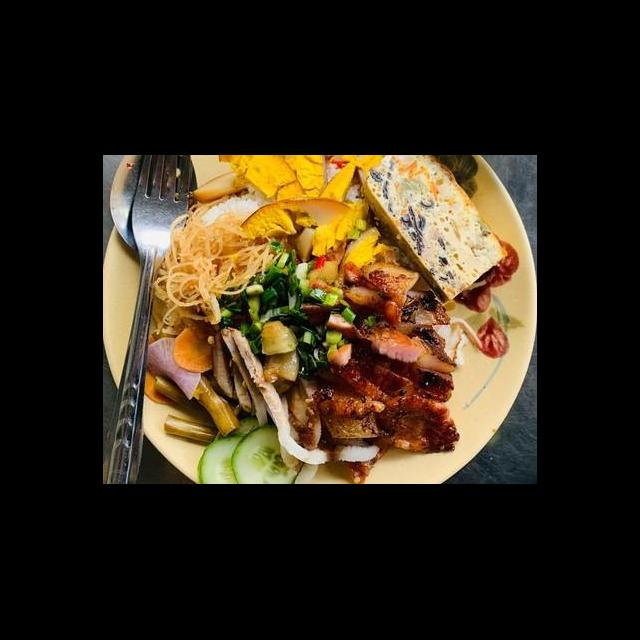bi: (146, 212, 285, 338)
cha: (355, 156, 510, 308)
com: (199, 182, 276, 230)
com suon bi cha trung: (143, 182, 537, 483)
dua chua: (134, 318, 248, 447)
suon: (278, 258, 462, 484), (207, 322, 333, 472)
trung: (227, 157, 387, 266), (191, 168, 255, 208)
